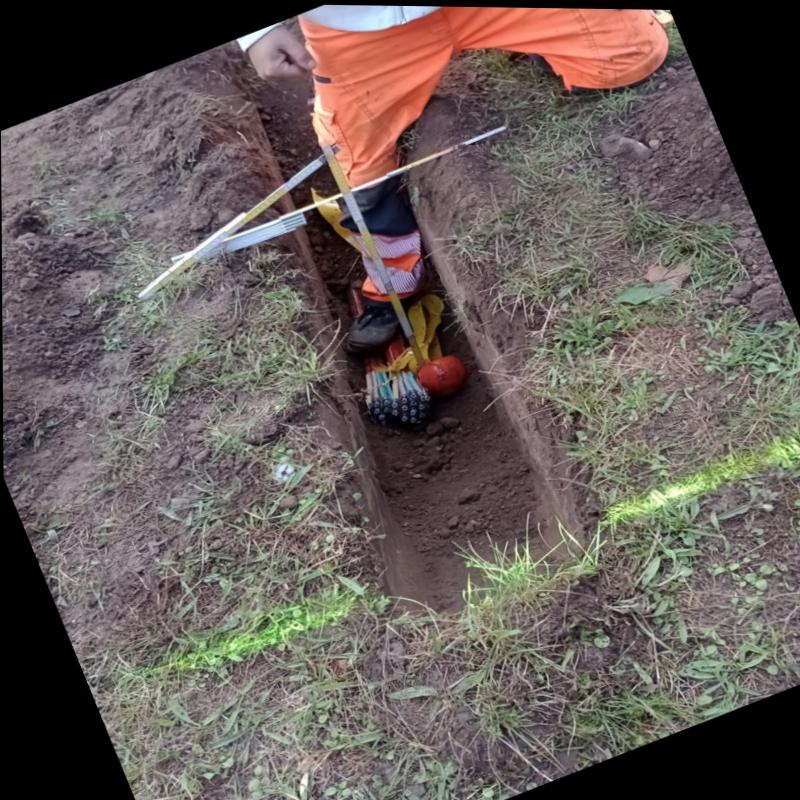Kugelmarker: (419, 354, 465, 392)
Orang-Speednetrohrchen: (366, 334, 426, 425)
